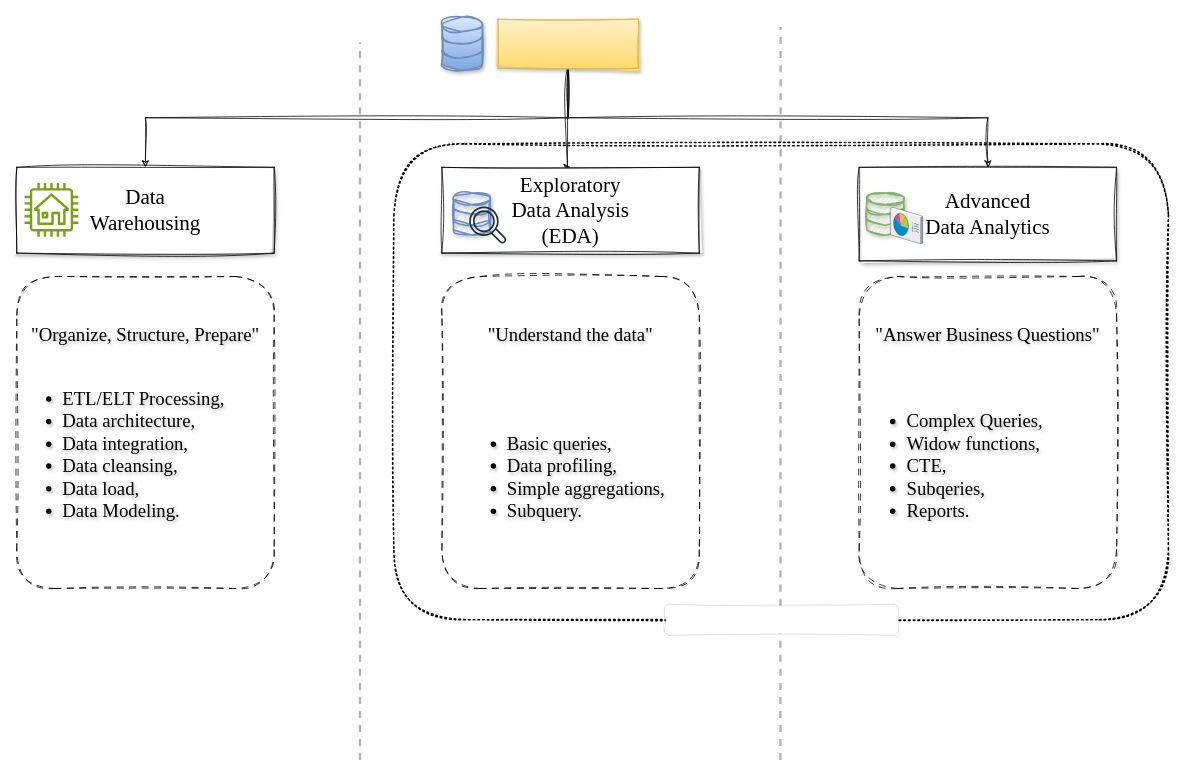
Some shapes in this 1182 by 776 pixel diagram are drawn without their labels. Here are the shapes that lost their labels. From the top down, the centre of each, then its label:
At pixel 568 44: "SQL Projects".
At pixel 781 619: "SCOPE".
